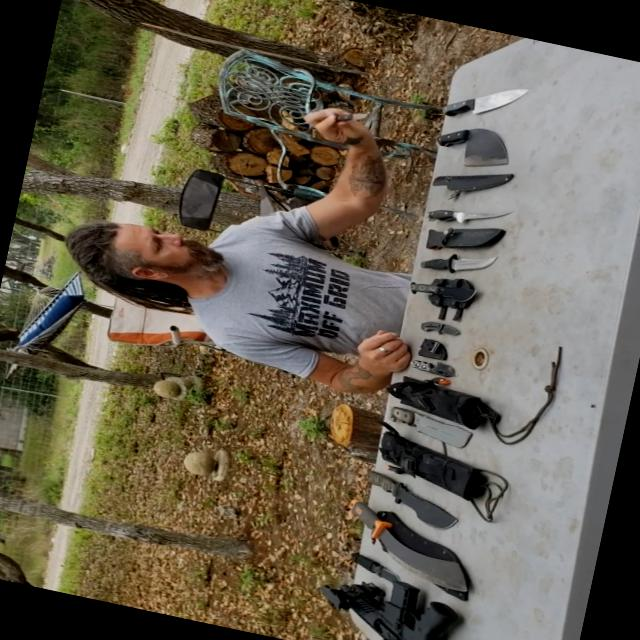knife: (322, 498, 496, 599), (344, 456, 484, 536), (419, 55, 549, 131), (376, 391, 499, 462), (399, 264, 508, 326), (417, 113, 524, 173), (414, 228, 508, 283), (406, 186, 516, 230), (400, 295, 485, 343), (339, 544, 416, 588), (393, 343, 470, 379), (319, 99, 380, 133)
long weapon: (301, 558, 554, 639)
